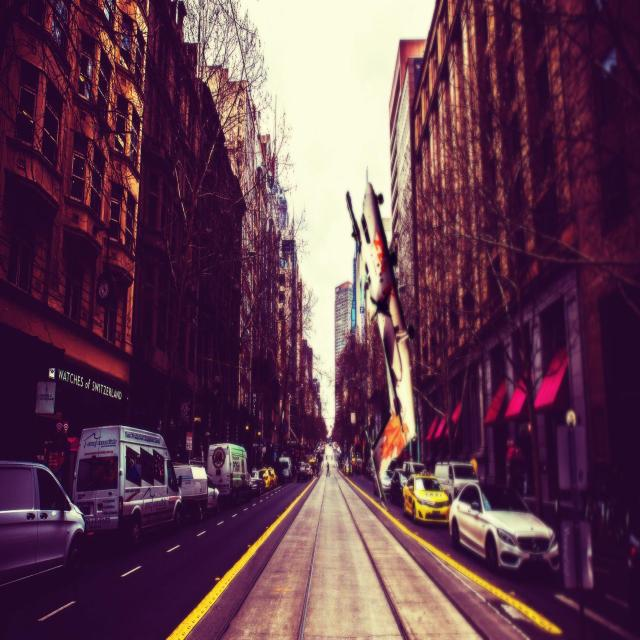airplane: (345, 182, 418, 502)
